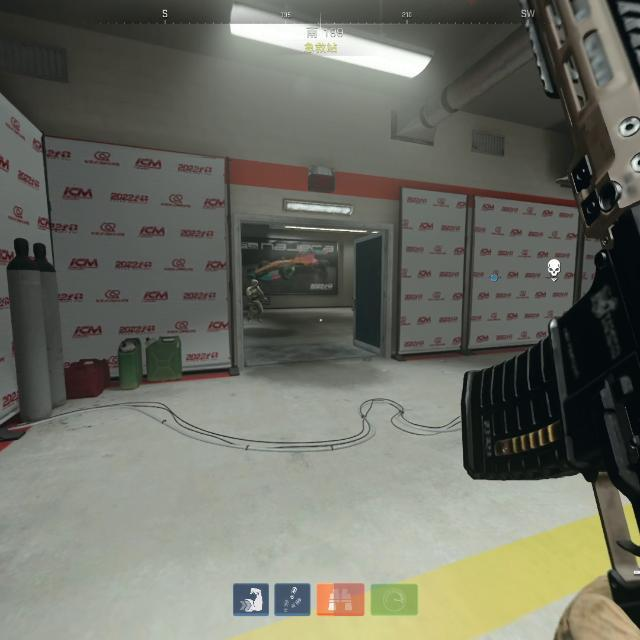MW2_body: (241, 277, 268, 323)
